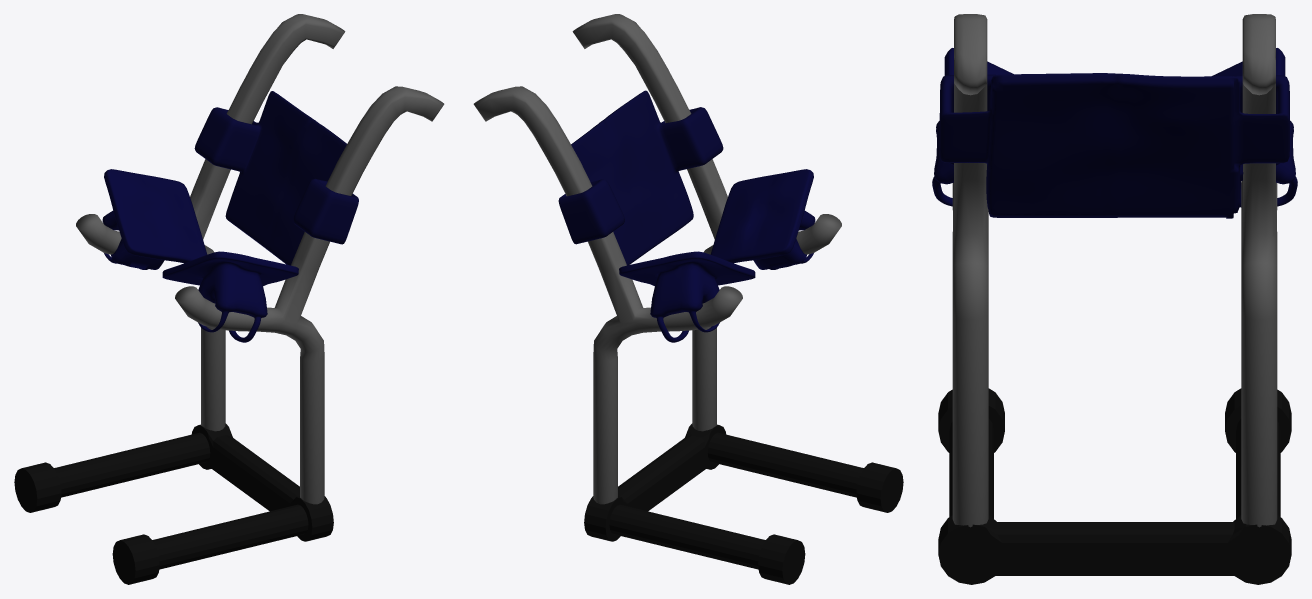
The model's file is Helper To Stand.obj.
3 views of the same model, side by side, from view 1: azimuth 30°, elevation 25°; view 2: azimuth 150°, elevation 25°; view 3: azimuth 270°, elevation 25° (orthographic). The views are drawn at different scales.
Visible parts, largest first — view 1: Stander_Frame_Handle_Cylinder.002, Stander_Frame_Bot_Cylinder.001, Stander_BackSupport_Plane, But_Pads_Torus; view 2: Stander_Frame_Handle_Cylinder.002, Stander_Frame_Bot_Cylinder.001, Stander_BackSupport_Plane, But_Pads_Torus; view 3: Stander_BackSupport_Plane, Stander_Frame_Handle_Cylinder.002, Stander_Frame_Bot_Cylinder.001, But_Pads_Torus.
Part boxes in pixels (x1,y1,x2,y2): Stander_Frame_Handle_Cylinder.002: [76, 14, 444, 504]; Stander_Frame_Bot_Cylinder.001: [14, 423, 333, 584]; Stander_BackSupport_Plane: [194, 91, 358, 265]; But_Pads_Torus: [102, 169, 298, 342]; Stander_Frame_Handle_Cylinder.002: [473, 14, 841, 504]; Stander_Frame_Bot_Cylinder.001: [584, 423, 903, 584]; Stander_BackSupport_Plane: [558, 90, 723, 265]; But_Pads_Torus: [619, 169, 815, 342]; Stander_BackSupport_Plane: [939, 73, 1289, 218]; Stander_Frame_Handle_Cylinder.002: [952, 14, 1277, 527]; Stander_Frame_Bot_Cylinder.001: [938, 388, 1291, 584]; But_Pads_Torus: [932, 48, 1297, 207].
Size of the model in its own units: 1.2 by 1.54 by 0.8213.
